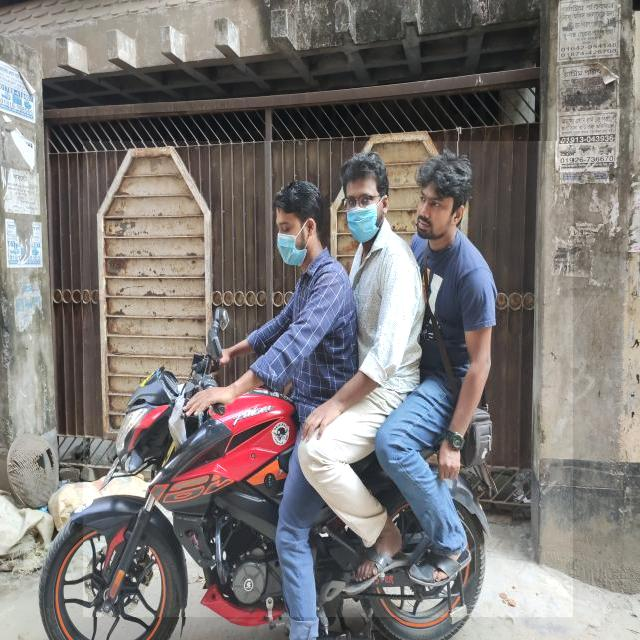Overloading: (84, 141, 574, 617)
